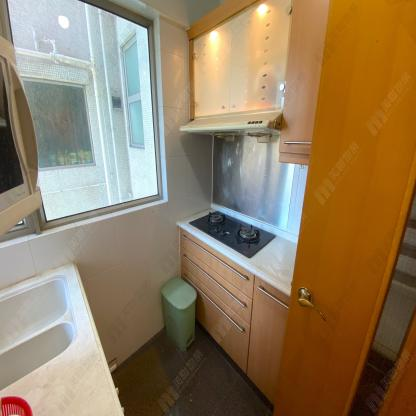Cupboard: (178, 228, 291, 406), (192, 0, 291, 118)
Exhaust Hood: (179, 111, 283, 148)
Microwave: (0, 35, 41, 237)
Sink: (0, 272, 82, 392)
Stove: (189, 211, 274, 257)
